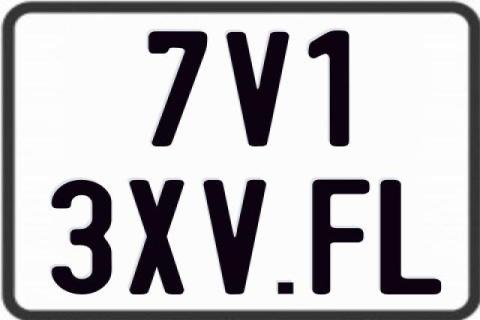0: (50, 178, 116, 294), (147, 29, 207, 145), (307, 28, 351, 145)
F: (310, 179, 374, 295)
L: (379, 178, 443, 296)
V: (225, 30, 292, 148), (203, 180, 270, 298)
X: (128, 178, 184, 296)
